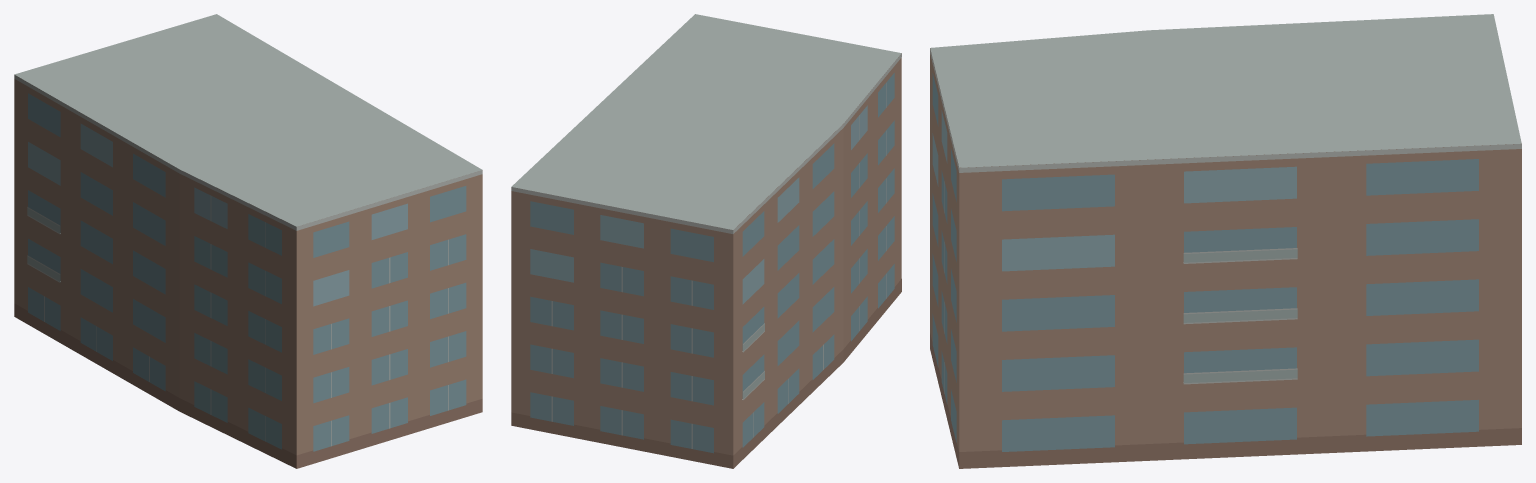
The model's file is residential-620548a7-c611-4c62-8e8c-8cb528029b4c.glb.
3 renders of one model, left to right at view 1: azimuth 30°, elevation 25°; view 2: azimuth 150°, elevation 25°; view 3: azimuth 270°, elevation 25°, orthographic. The views are drawn at different scales.
Parts seen in each view (by area): view 1: residential-620548a7-c611-4c62-8e8c-8cb528029b4c.tmp; view 2: residential-620548a7-c611-4c62-8e8c-8cb528029b4c.tmp; view 3: residential-620548a7-c611-4c62-8e8c-8cb528029b4c.tmp.
Boxes of the visible parts, left/top/right/bottom form: residential-620548a7-c611-4c62-8e8c-8cb528029b4c.tmp: left=14, top=14, right=482, bottom=468; residential-620548a7-c611-4c62-8e8c-8cb528029b4c.tmp: left=511, top=14, right=901, bottom=468; residential-620548a7-c611-4c62-8e8c-8cb528029b4c.tmp: left=930, top=14, right=1521, bottom=468.
Bounding box in the file's own units: 15.57 × 14.2 × 25.3.
